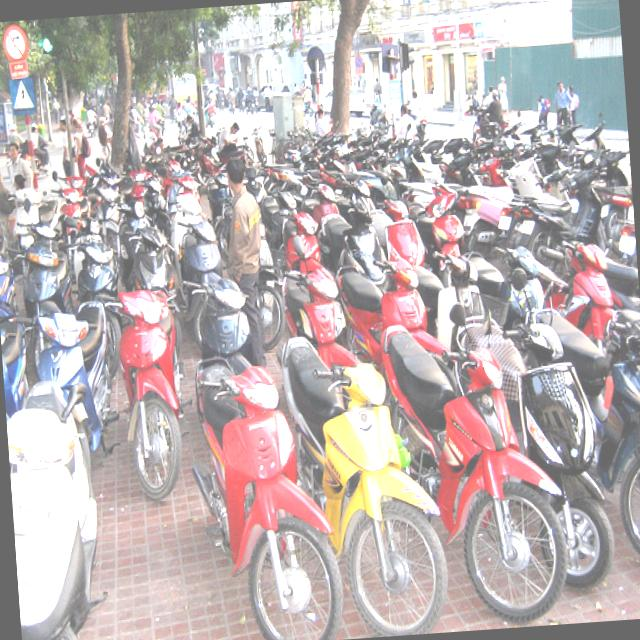Vehicle: (3, 85, 640, 635), (378, 308, 572, 630), (276, 322, 453, 640), (182, 346, 345, 640), (0, 327, 114, 640), (531, 298, 640, 581), (330, 216, 458, 402), (88, 284, 190, 514), (10, 300, 121, 462), (273, 228, 362, 372), (184, 270, 256, 376), (406, 188, 474, 282), (0, 312, 32, 418), (0, 243, 18, 316)
